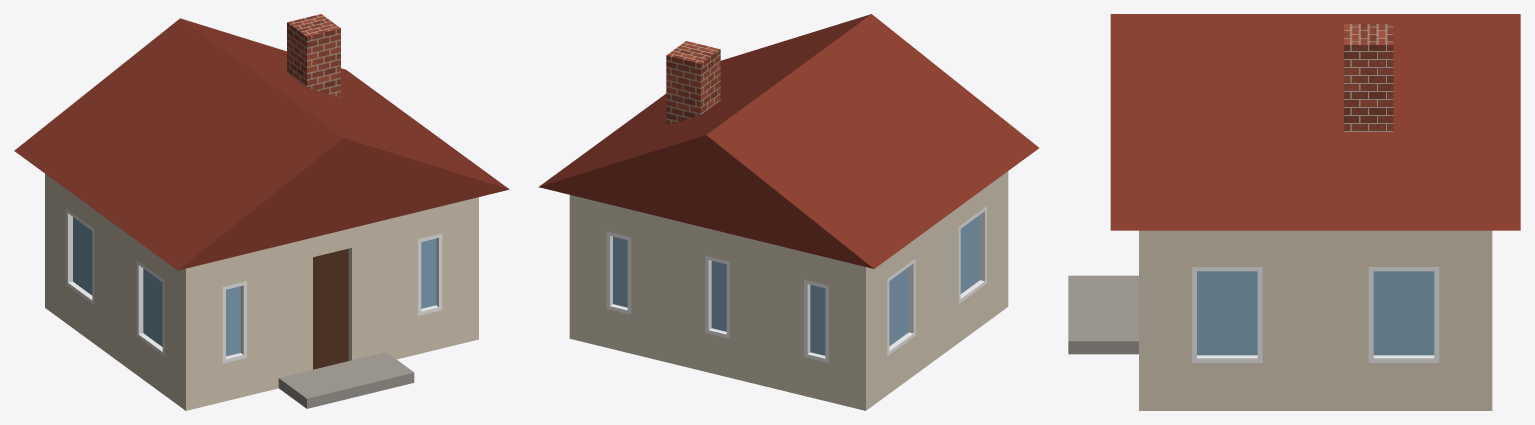
File: t_house.glb
3 renders of one model, left to right at view 1: azimuth 30°, elevation 25°; view 2: azimuth 150°, elevation 25°; view 3: azimuth 270°, elevation 25°, orthographic. The views are drawn at different scales.
Visible parts, largest first — view 1: House; view 2: House; view 3: House.
Part boxes in pixels (<box>): House: <box>14,14,509,410</box>; House: <box>538,14,1038,410</box>; House: <box>1068,14,1520,410</box>.
Size of the model in its own units: 6.8 by 5.18 by 6.4.
7 materials, 1 textured.
